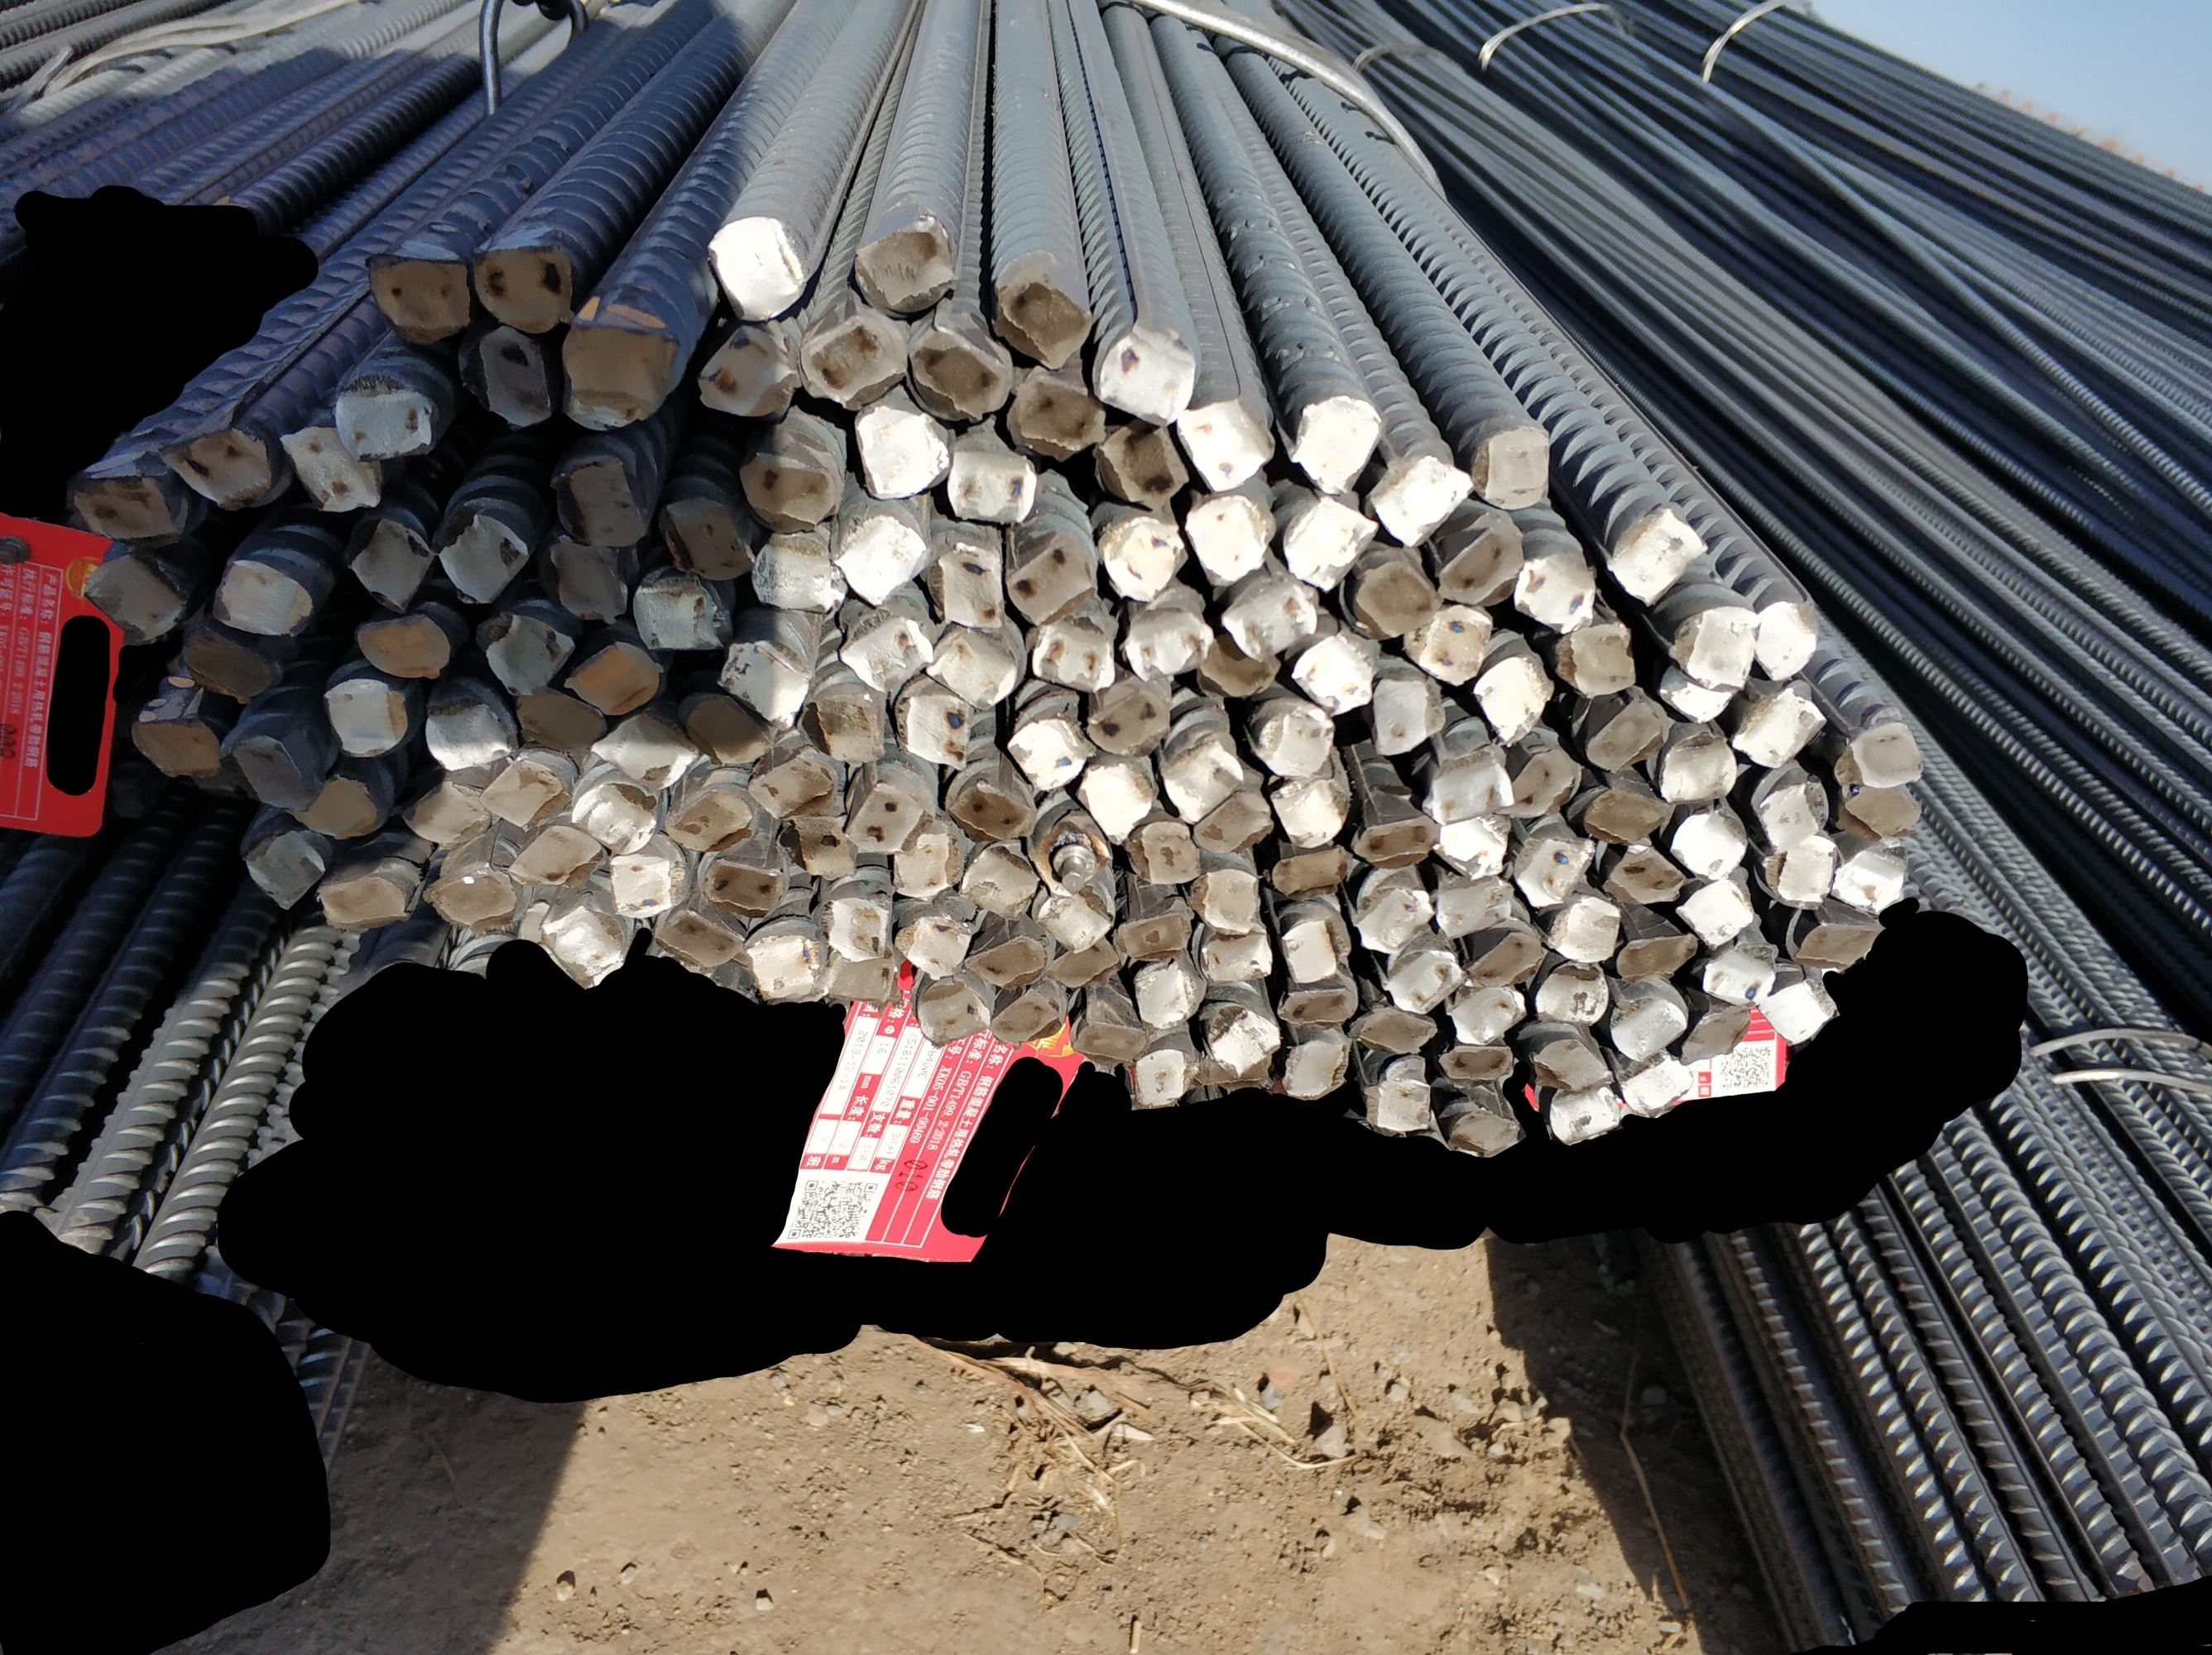rebar: (554, 315, 679, 435), (851, 212, 963, 320), (360, 249, 476, 351), (801, 308, 911, 414), (704, 210, 806, 322), (1169, 393, 1279, 495), (160, 422, 278, 515), (1095, 320, 1201, 422), (1606, 502, 1708, 608), (697, 323, 801, 424), (907, 327, 1011, 428), (328, 374, 438, 469), (1281, 497, 1381, 596), (83, 556, 189, 650), (1003, 528, 1100, 629), (1289, 393, 1383, 497), (992, 275, 1095, 369), (281, 421, 381, 516), (853, 400, 949, 499), (1374, 455, 1474, 551), (714, 636, 813, 730), (471, 322, 554, 431), (831, 511, 928, 605), (474, 610, 575, 701), (547, 457, 648, 548), (473, 242, 575, 330), (653, 494, 756, 582), (923, 619, 1020, 711), (1348, 549, 1446, 641), (1222, 568, 1321, 659), (1006, 372, 1107, 461), (591, 709, 697, 793), (1093, 419, 1189, 511), (210, 556, 315, 640), (177, 626, 283, 708), (436, 513, 530, 605), (836, 612, 938, 695), (1402, 600, 1498, 688), (749, 527, 848, 612), (71, 468, 179, 546), (1096, 509, 1185, 603), (1185, 495, 1274, 589), (1731, 678, 1825, 767), (316, 675, 412, 761), (1472, 648, 1555, 748), (740, 449, 841, 530), (926, 532, 1008, 633), (1027, 810, 1116, 902), (1434, 520, 1527, 607), (1668, 603, 1762, 690), (944, 445, 1041, 528), (1421, 737, 1515, 822), (547, 539, 634, 629), (634, 570, 726, 655), (563, 638, 660, 718), (349, 520, 434, 610), (229, 725, 320, 810), (540, 895, 626, 986), (1512, 546, 1597, 636), (1474, 421, 1557, 513), (1242, 699, 1338, 779), (1161, 739, 1246, 827), (895, 681, 977, 774), (1366, 669, 1447, 761), (1831, 715, 1925, 794), (1023, 621, 1121, 697), (504, 822, 603, 897), (238, 827, 325, 913), (1201, 998, 1286, 1085), (742, 916, 825, 1005), (1123, 603, 1215, 683), (421, 690, 514, 768), (130, 709, 228, 784), (1289, 633, 1376, 716), (1079, 756, 1159, 847), (888, 814, 966, 906), (421, 859, 518, 932), (806, 685, 890, 770), (959, 834, 1043, 920), (608, 833, 690, 920), (570, 775, 659, 855), (749, 741, 838, 821), (1084, 678, 1173, 758), (285, 770, 389, 838), (476, 754, 568, 831), (844, 779, 937, 855), (1027, 876, 1119, 953), (1513, 827, 1597, 911), (1581, 694, 1668, 774), (1748, 595, 1825, 685), (349, 612, 454, 678), (683, 695, 775, 770), (511, 688, 605, 761), (652, 899, 745, 972), (1010, 711, 1089, 794), (1658, 730, 1741, 810), (699, 843, 784, 921), (810, 885, 895, 963), (401, 775, 493, 847), (1129, 951, 1211, 1031), (1831, 836, 1910, 920), (1348, 881, 1437, 954), (893, 902, 973, 982), (1559, 619, 1640, 697), (818, 937, 902, 1014), (1670, 807, 1755, 881), (775, 810, 860, 883), (1755, 768, 1828, 854), (1268, 777, 1355, 848), (1195, 636, 1284, 706), (1428, 871, 1517, 940), (1503, 744, 1580, 824), (1765, 831, 1842, 911), (1460, 920, 1548, 987), (316, 866, 412, 928), (916, 972, 994, 1048), (1376, 947, 1467, 1014), (1757, 975, 1838, 1048), (1580, 784, 1672, 848), (667, 781, 754, 848), (1359, 1064, 1437, 1139), (1609, 991, 1689, 1064), (1675, 880, 1757, 951), (1192, 789, 1277, 857), (1546, 892, 1625, 965), (1185, 866, 1267, 935), (1430, 810, 1512, 880), (950, 770, 1034, 838), (1352, 810, 1442, 873), (1600, 843, 1685, 909), (1791, 916, 1887, 974), (1837, 775, 1922, 840), (1126, 817, 1202, 888), (1534, 960, 1611, 1031), (1107, 906, 1195, 967), (1446, 982, 1529, 1047), (1274, 1033, 1348, 1104), (1656, 662, 1739, 725), (963, 932, 1048, 991), (989, 982, 1063, 1048), (1548, 1083, 1623, 1149), (1348, 1005, 1442, 1057), (1063, 1012, 1154, 1066), (1533, 1033, 1614, 1092), (1619, 1052, 1692, 1118), (1701, 942, 1776, 1007), (1044, 934, 1121, 996), (1447, 1099, 1526, 1160), (1281, 914, 1347, 986), (1197, 928, 1279, 984), (1270, 845, 1354, 897), (1680, 1003, 1752, 1064), (1619, 932, 1698, 984), (1129, 1041, 1190, 1107), (1275, 982, 1361, 1029), (1442, 1038, 1519, 1087)
